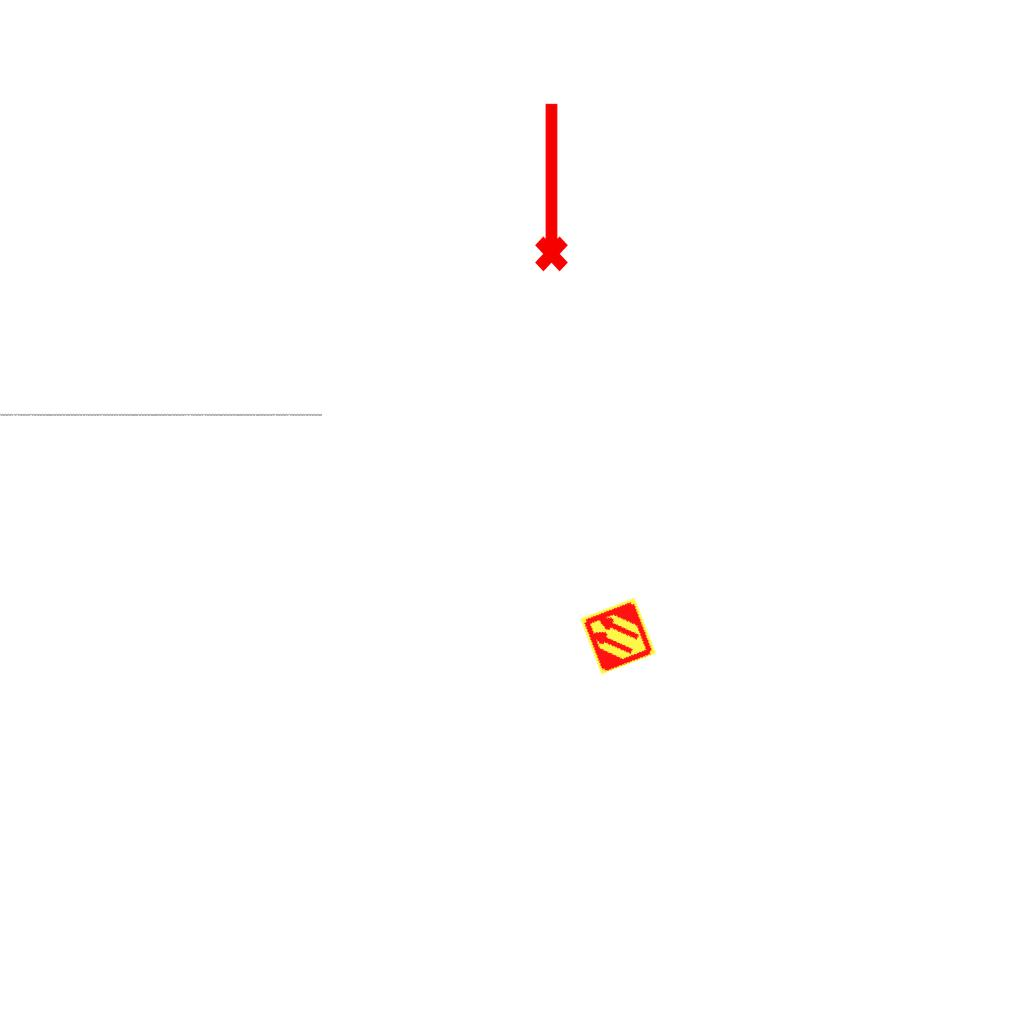ASR_Ansaugoeffnung: (526, 98, 572, 274)
ASR_Ansaugrauchmelder: (577, 595, 659, 677)
